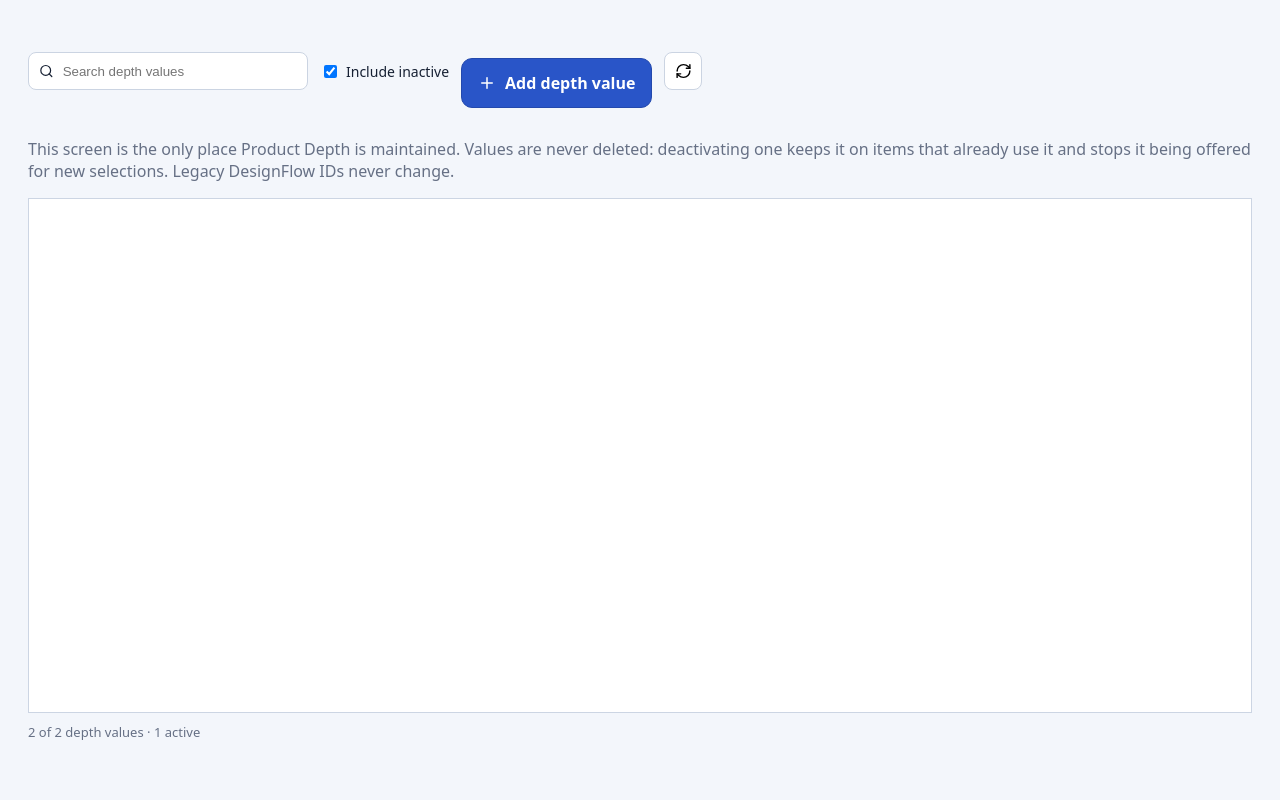
Test case: ProductDepthTable › renders a committed failure instead of swallowing it
expect the text "2 of 2 depth values · 1 active" is shown: met, box [28, 723, 200, 741]
Click the button "Add depth value" at (557, 83), box [461, 58, 652, 108]
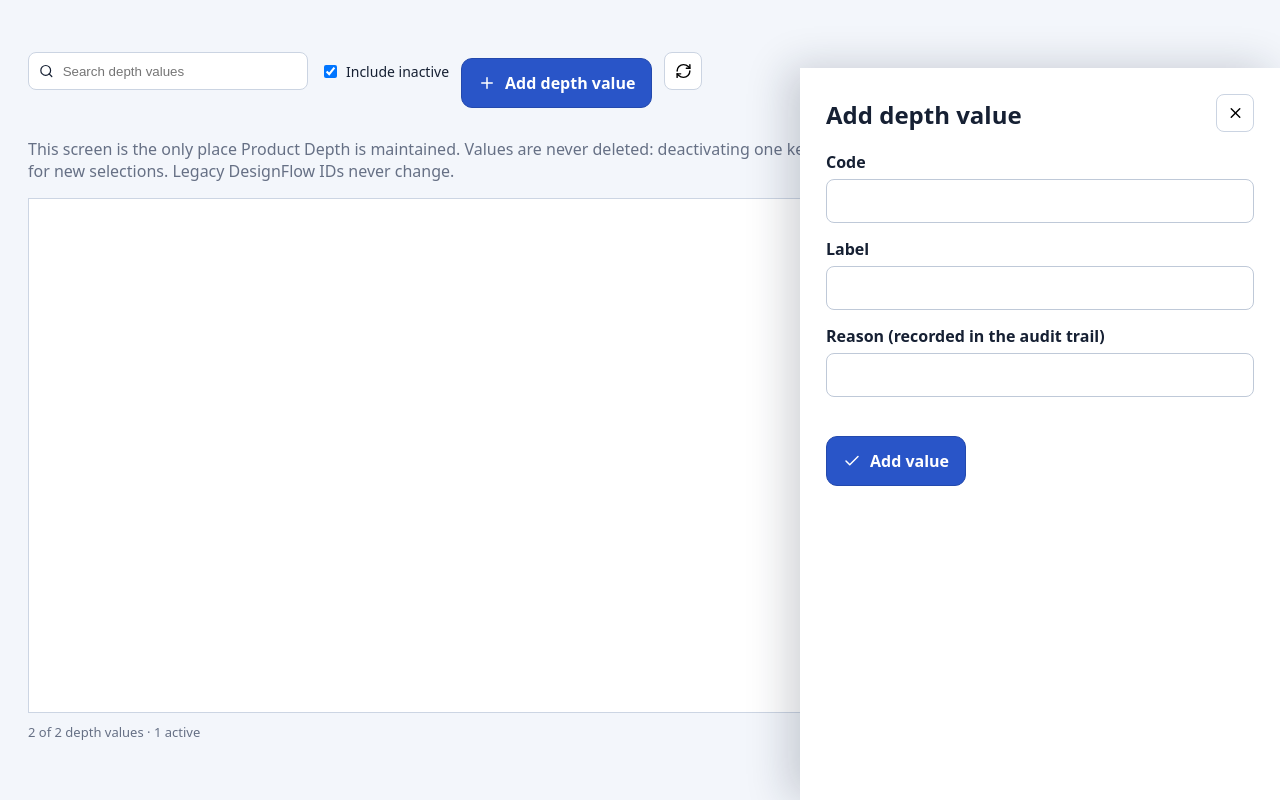
Type "3IN" into the field labelled "Code" at (1040, 201), box [826, 179, 1254, 223]
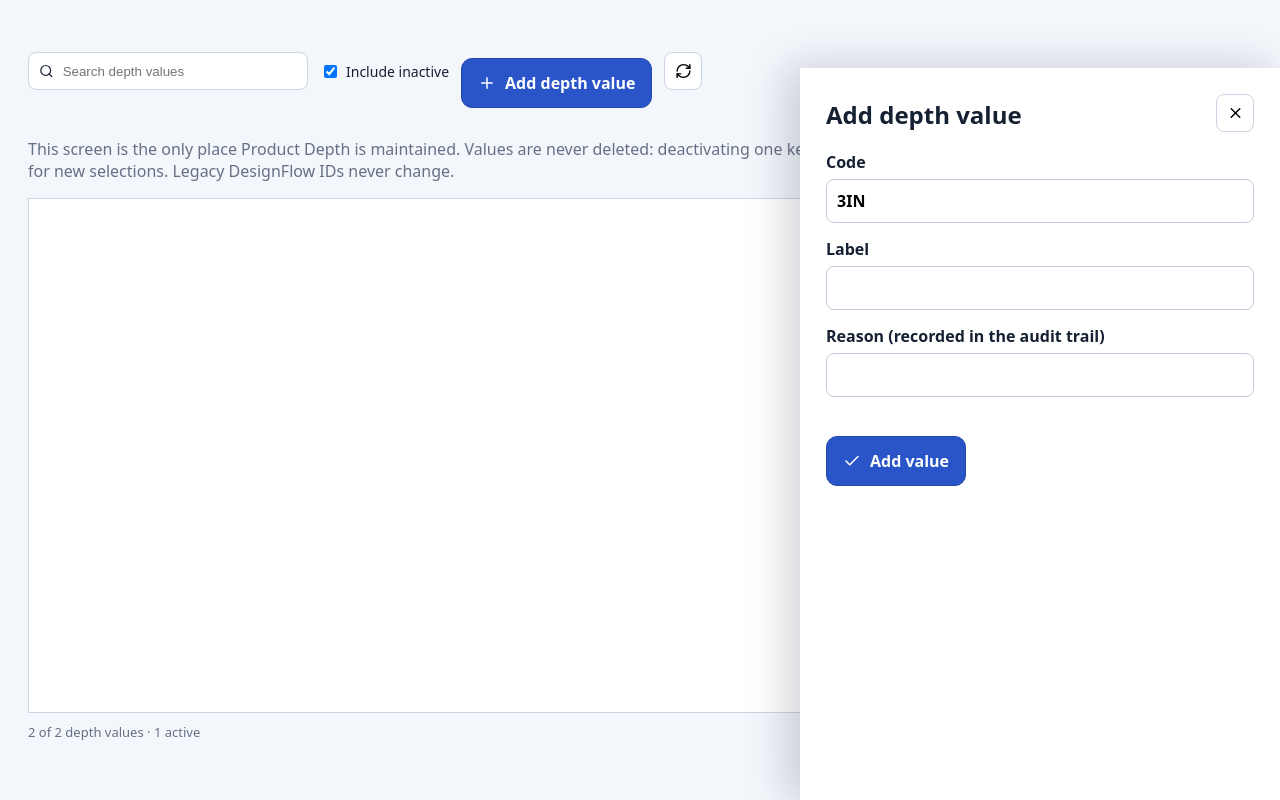
Type "dupe" into the field labelled "Label" at (1040, 288), box [826, 266, 1254, 310]
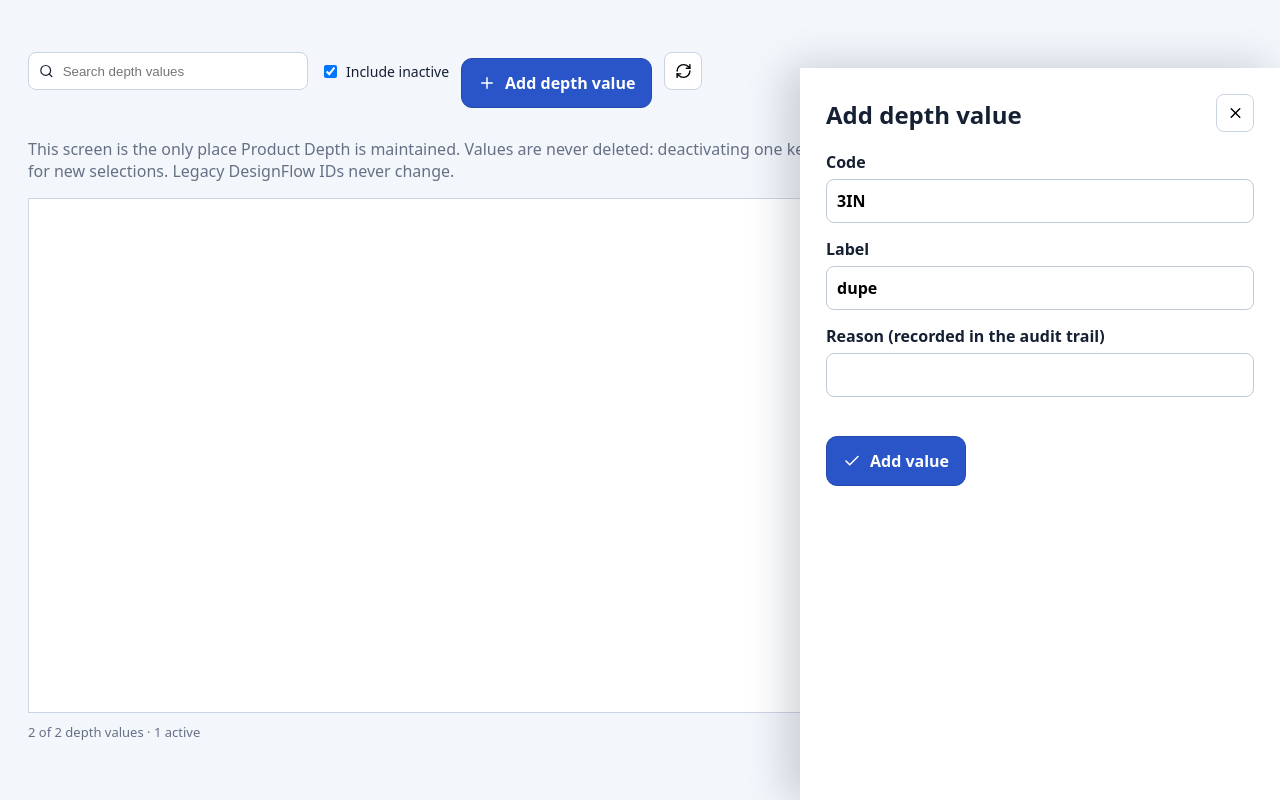
Type "testing" into the field labelled "Reason (recorded in the audit trail)" at (1040, 375), box [826, 353, 1254, 397]
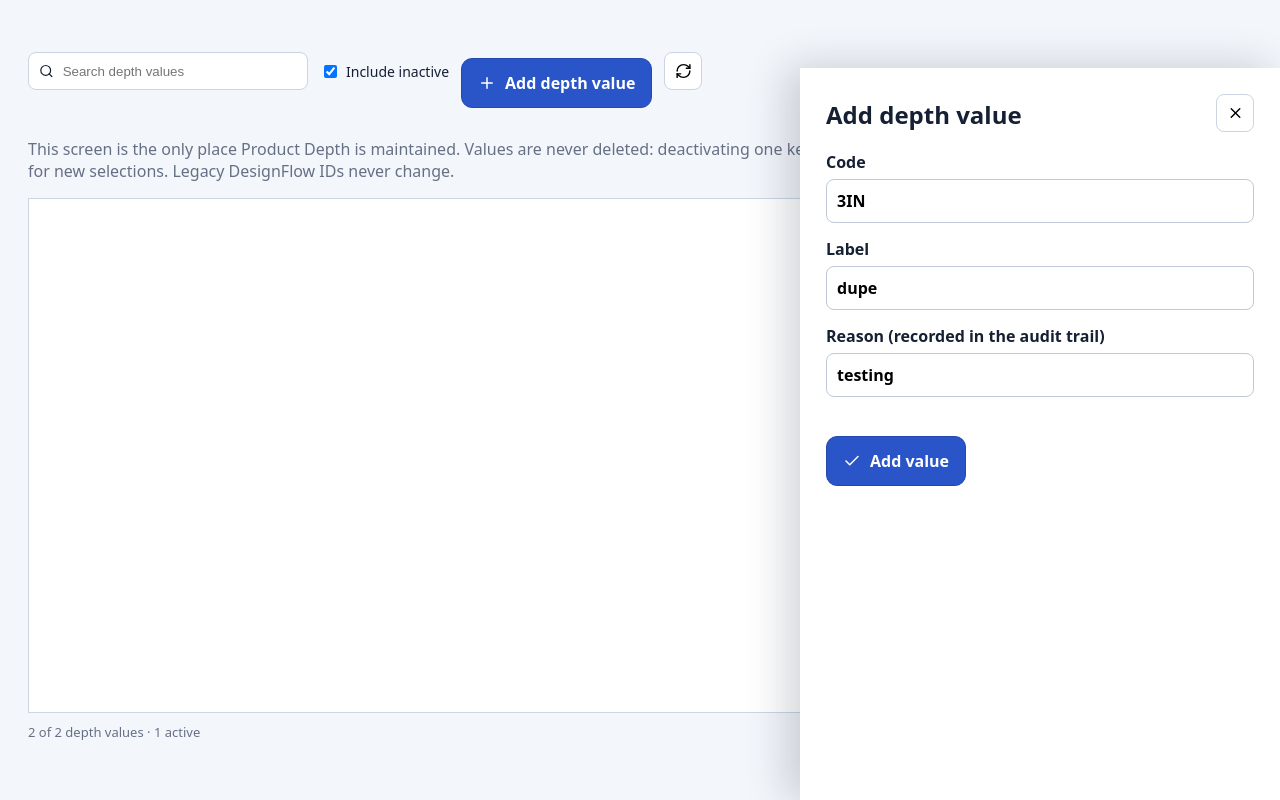
Click the button "Add value" at (896, 461), box [826, 436, 966, 486]
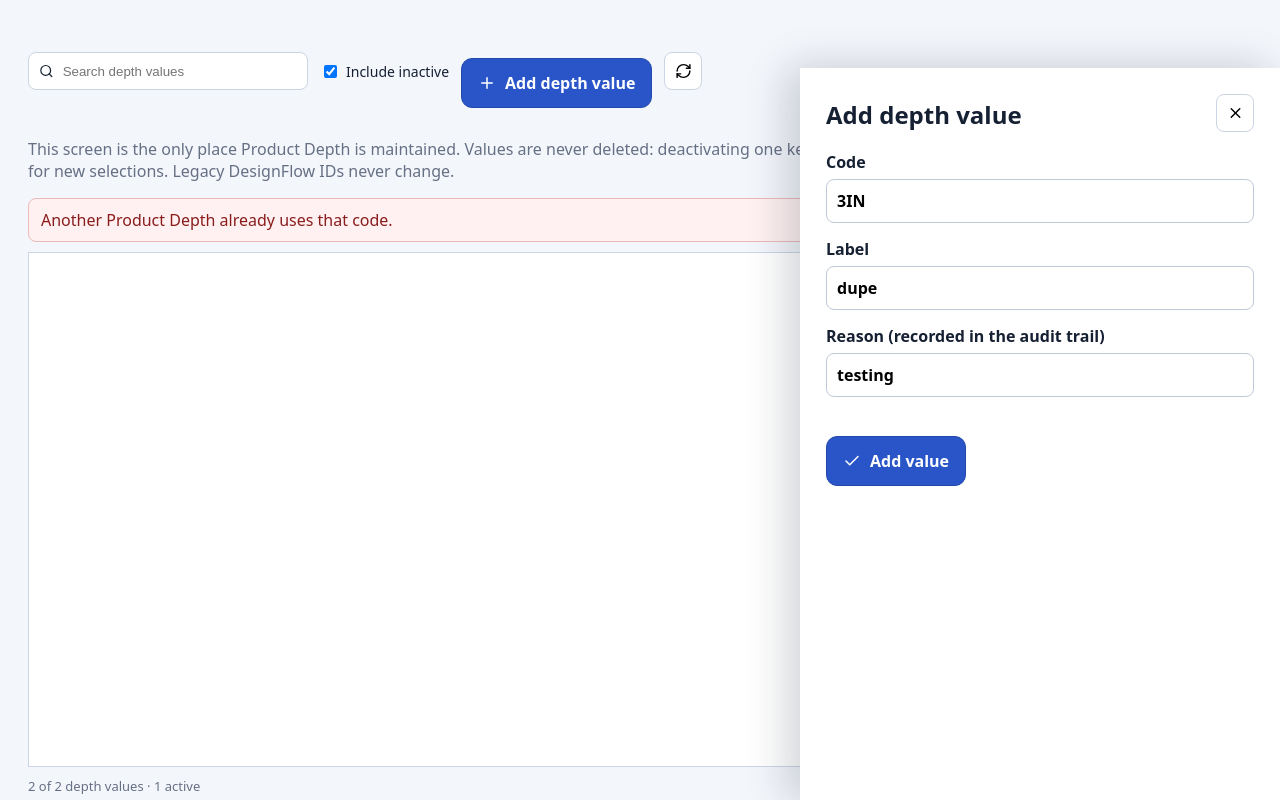
expect the text "Another Product Depth already uses that code." is shown: met, box [28, 198, 1252, 242]
